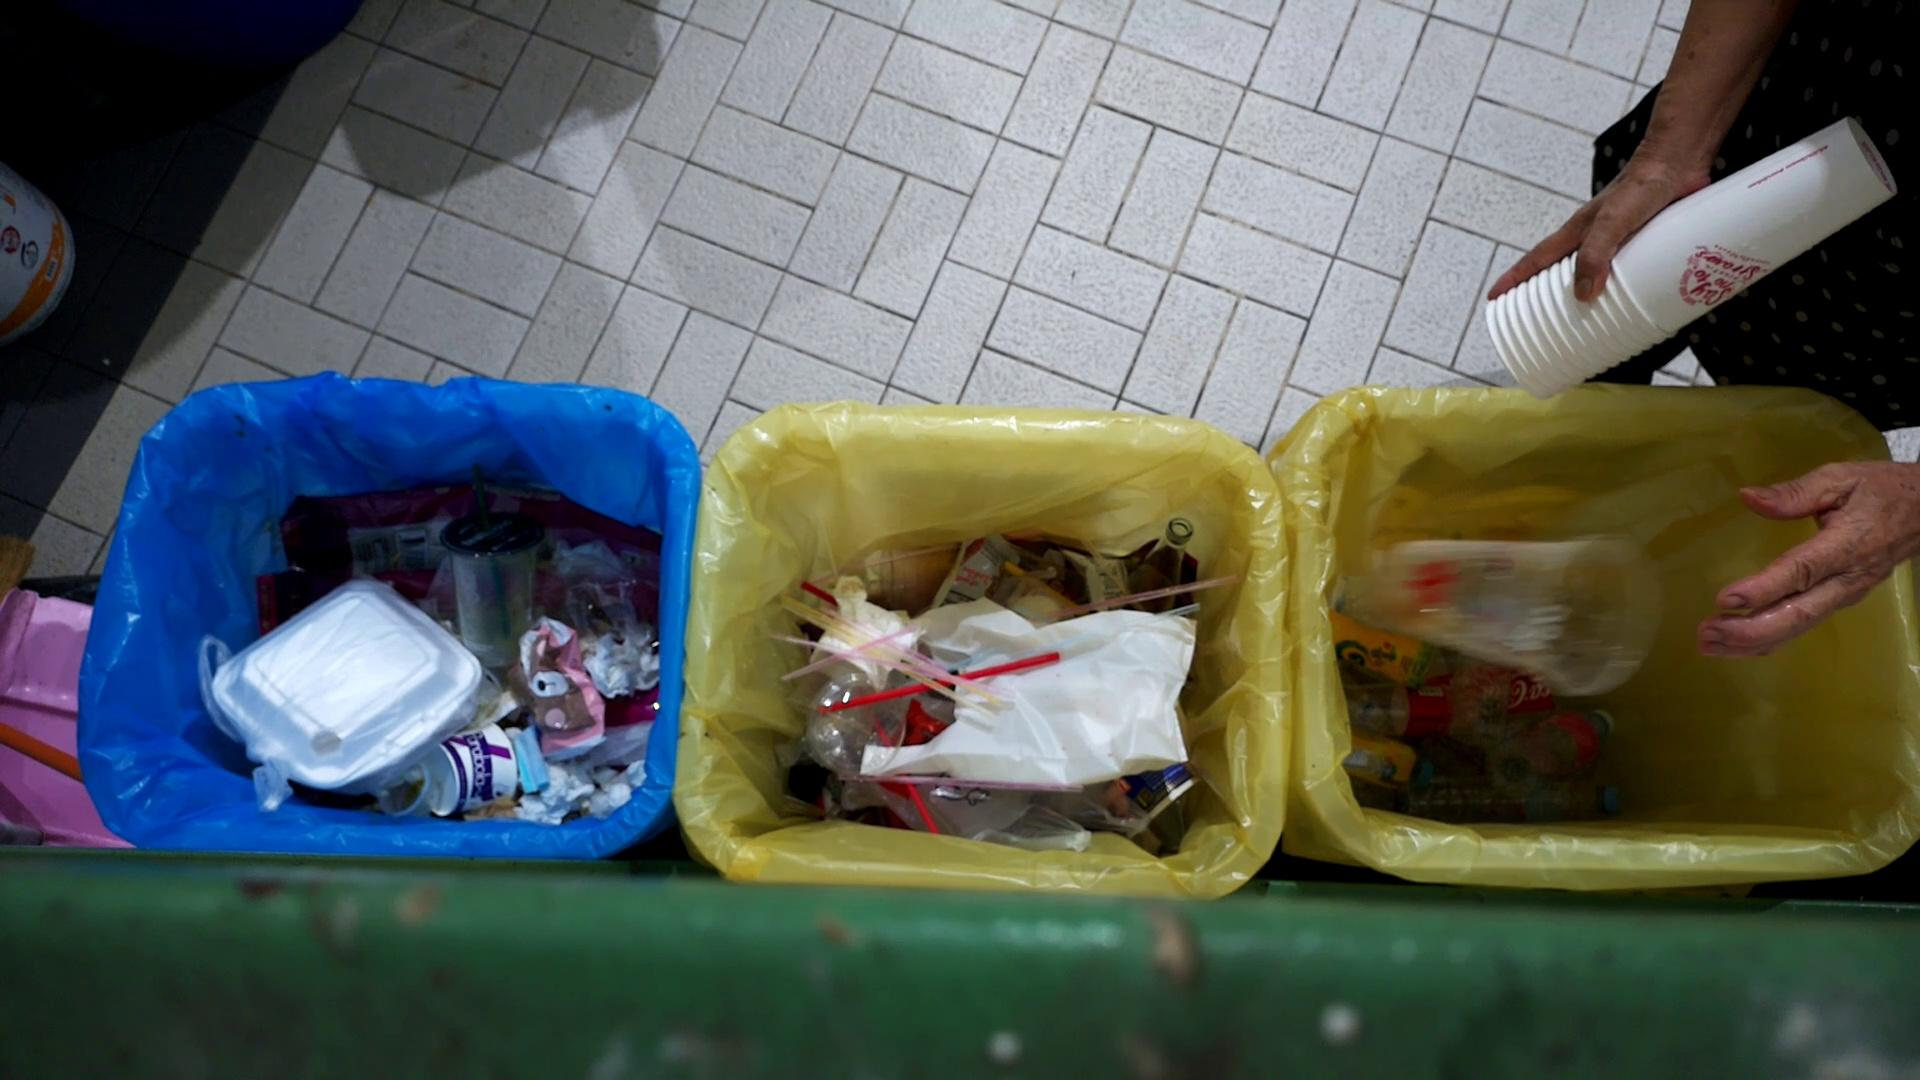filled plastic bag: (188, 558, 486, 808)
food container: (411, 709, 519, 815)
plastic bag: (855, 596, 1196, 789)
plastic bottle: (1482, 703, 1620, 801), (1328, 598, 1441, 701), (1446, 767, 1640, 821), (1339, 725, 1433, 792)
plastic cup: (1360, 522, 1683, 705), (438, 505, 547, 667), (809, 666, 915, 778)
snack packaging: (507, 612, 616, 766)
straw: (781, 593, 1004, 709), (778, 602, 978, 712), (956, 603, 1203, 676), (817, 651, 1064, 721), (767, 628, 992, 692), (1035, 574, 1240, 625), (1066, 515, 1151, 619), (782, 622, 919, 685), (820, 606, 947, 672)
tissue paper: (563, 527, 636, 581), (588, 626, 638, 699), (529, 755, 592, 812), (511, 721, 553, 795), (582, 765, 639, 818), (514, 793, 569, 824)
zero waste cup: (1607, 113, 1900, 337)
